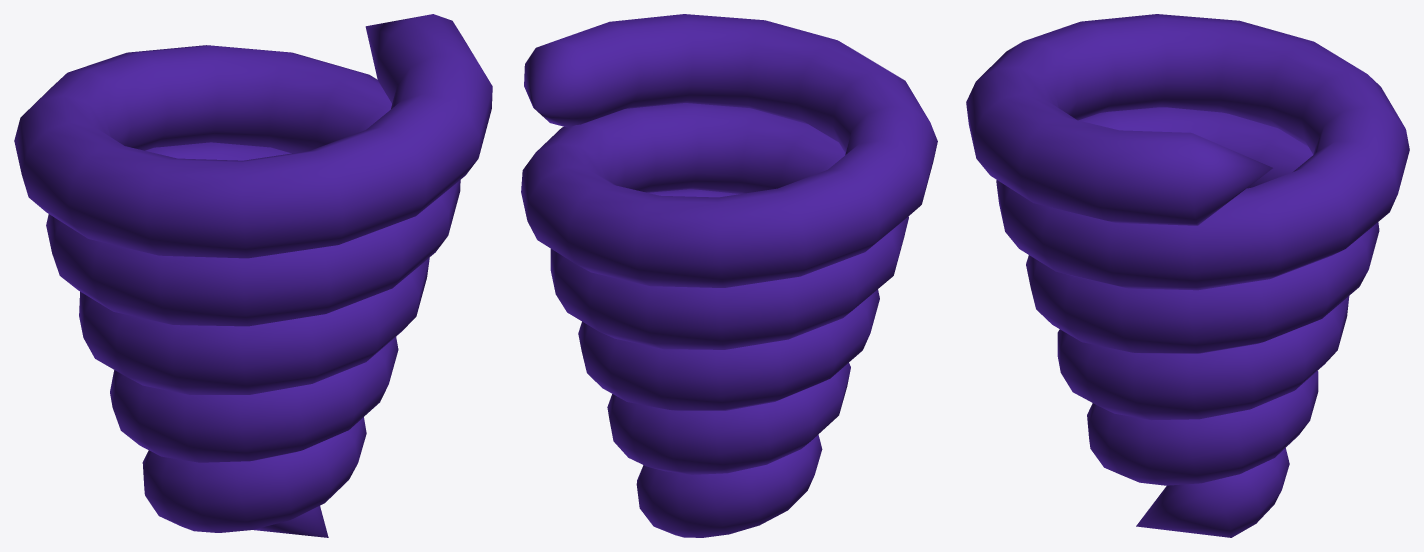
The model's file is drill.fbx.
The picture shows the model from 3 angles, left to right: view 1: azimuth 30°, elevation 25°; view 2: azimuth 150°, elevation 25°; view 3: azimuth 270°, elevation 25°; orthographic projection. The views are drawn at different scales.
Visible parts, largest first — view 1: spiral; view 2: spiral; view 3: spiral.
Boxes of the visible parts, x1=… form: spiral: x1=14, y1=14, x2=492, y2=537; spiral: x1=521, y1=14, x2=937, y2=537; spiral: x1=966, y1=14, x2=1409, y2=537.
Size of the model in its own units: 663 by 741 by 644.
